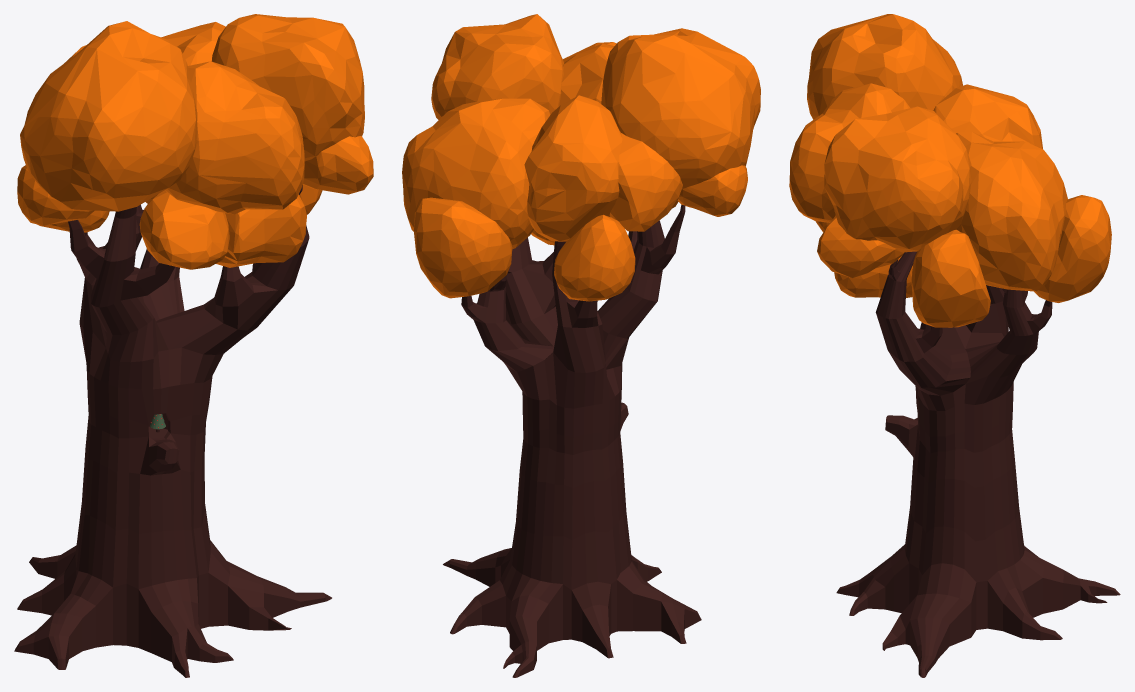
Rendered from BigTree.fbx.
3 renders of one model, left to right at view 1: azimuth 30°, elevation 25°; view 2: azimuth 150°, elevation 25°; view 3: azimuth 270°, elevation 25°, orthographic. The views are drawn at different scales.
Visible parts, largest first — view 1: BigTree; view 2: BigTree; view 3: BigTree.
Part boxes in pixels (<box>): BigTree: <box>14,14,373,677</box>; BigTree: <box>402,14,760,677</box>; BigTree: <box>789,14,1120,677</box>.
Bounding box in the file's own units: 5271 × 9664 × 5174.
